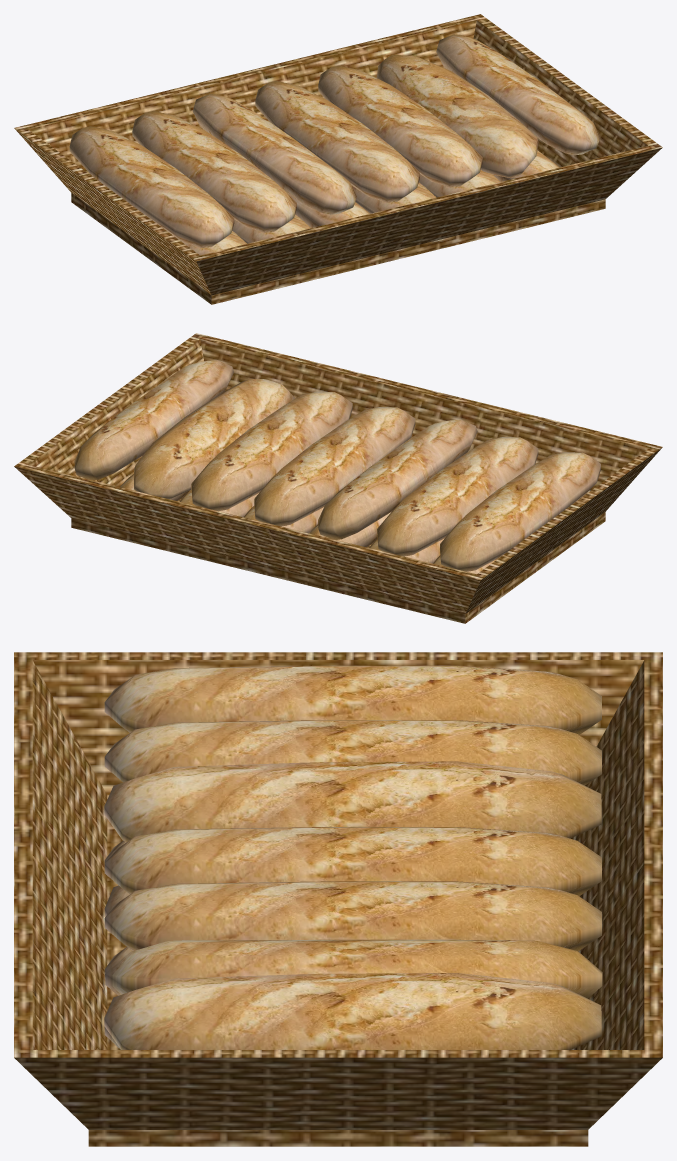
File: baguettes.glb
3 views of the same model, one above another, from view 1: azimuth 30°, elevation 25°; view 2: azimuth 150°, elevation 25°; view 3: azimuth 270°, elevation 25° (orthographic). The views are drawn at different scales.
Parts seen in each view (by area): view 1: baguettes; view 2: baguettes; view 3: baguettes.
Boxes of the visible parts, x1,y1,x2,y2 form: baguettes: (14,14,662,304); baguettes: (14,333,662,623); baguettes: (14,652,662,1146).
Bounding box in the file's own units: 0.6525 × 0.1172 × 0.4413.
Materials: 2 (2 with a texture image).
